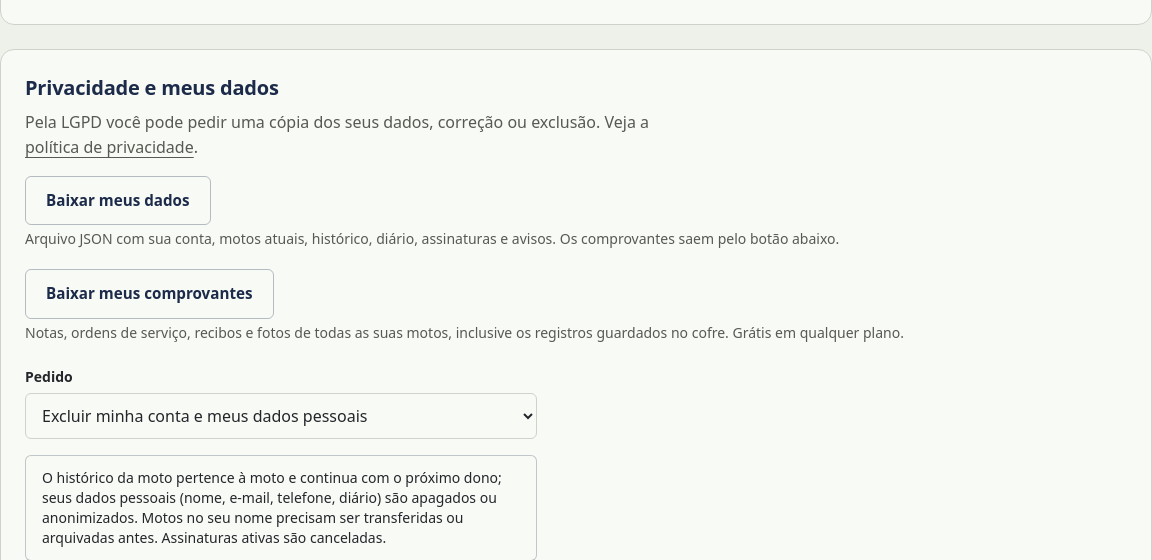
Test: Minha conta (ADR-036) › baixa os dados e abre/cancela pedido de exclusão
(page scrolled)
Click the button "Baixar meus dados" at point(118, 200), box [25,176,210,225]
(page scrolled)
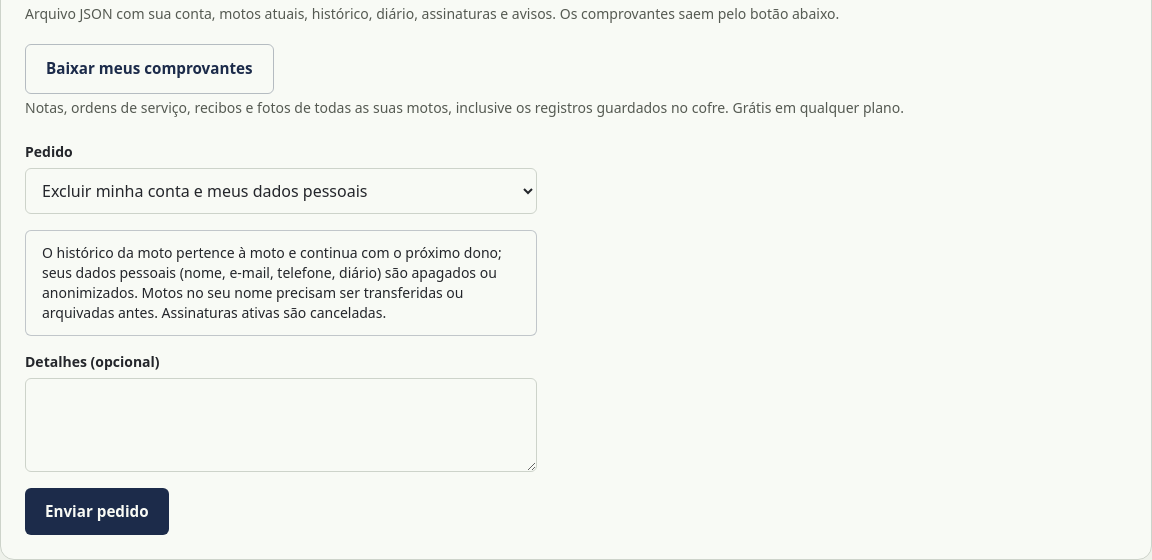
Expected: the text "histórico da moto pertence à moto" is shown, [42,243,502,322]
Click the button "Enviar pedido" at point(97, 511), box [25,488,169,535]
(page scrolled)
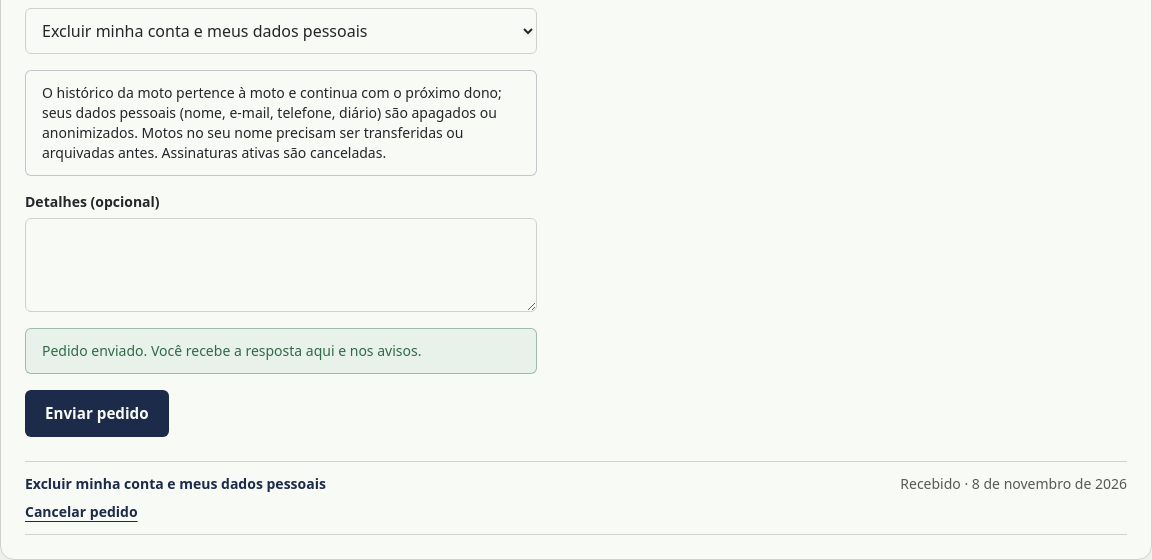
Expected: the text "Pedido enviado. Você recebe a resposta aqui e nos avisos." is shown, [42,341,421,360]
Expected: the text "Recebido" is shown, [900,474,961,493]
Click the button "Cancelar pedido" at point(81, 512), box [25,502,138,522]
(page scrolled)
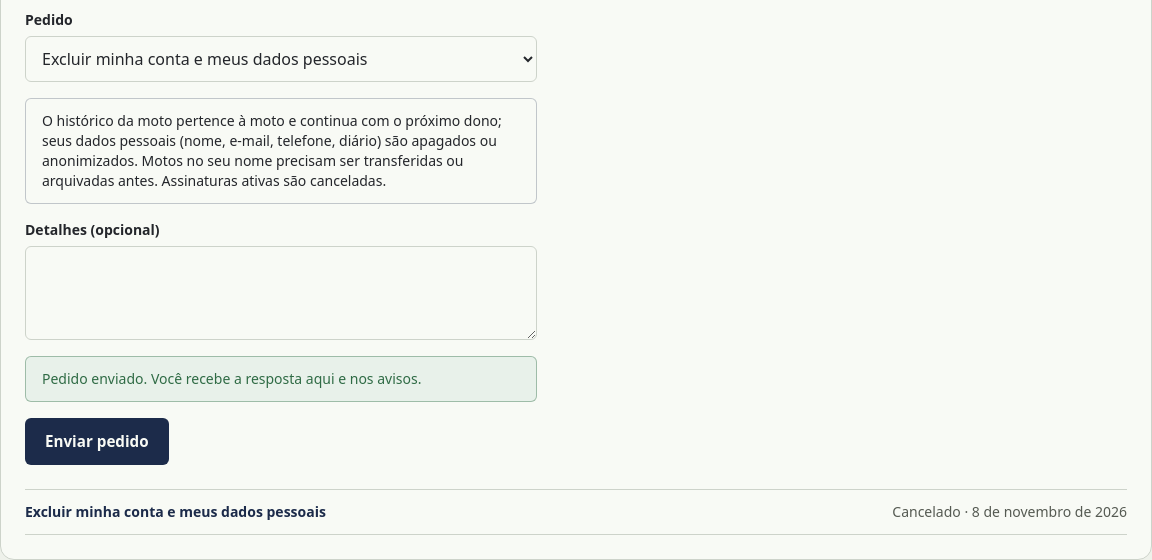
Expected: the text "Cancelado" is shown, [892,502,961,521]
